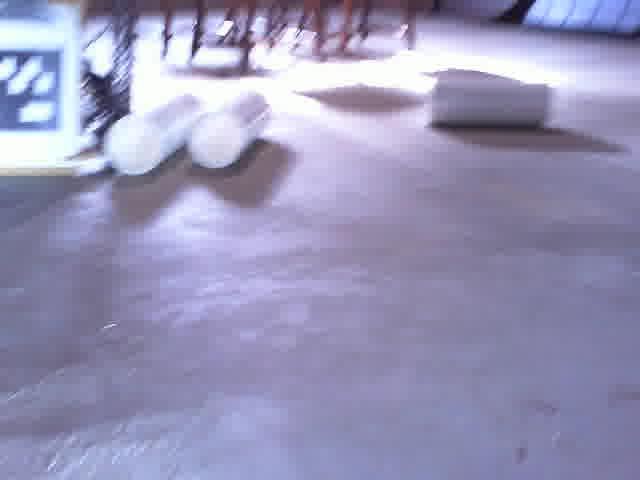coral: (104, 88, 202, 181), (423, 77, 556, 136), (185, 85, 275, 171)
